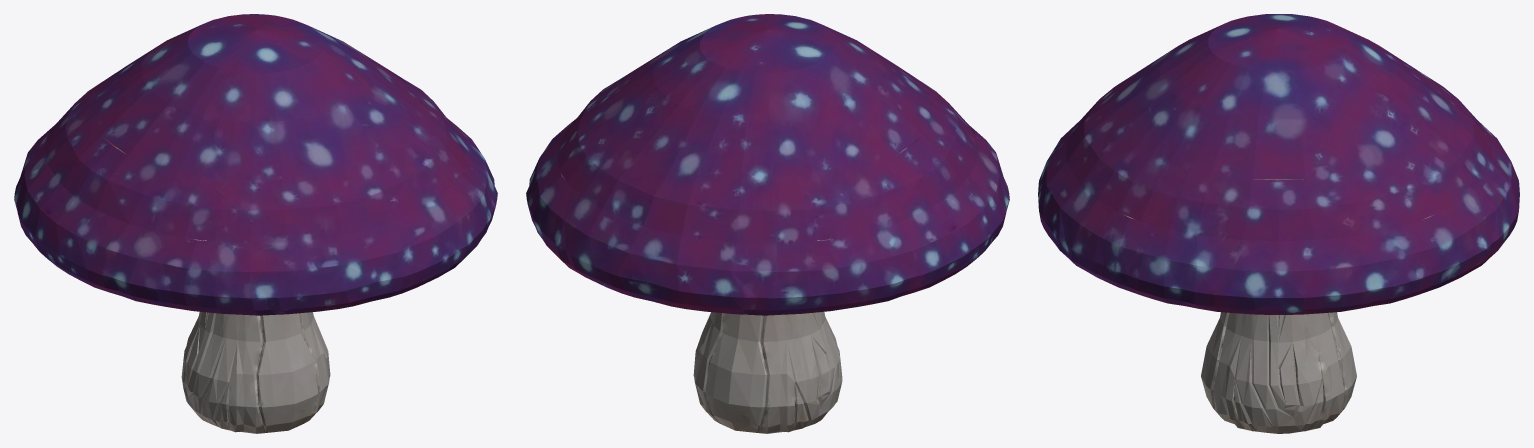
The model's file is tree_mushroom_LOD0.glb.
The picture shows the model from 3 angles, left to right: view 1: azimuth 30°, elevation 25°; view 2: azimuth 150°, elevation 25°; view 3: azimuth 270°, elevation 25°; orthographic projection.
Parts seen in each view (by area): view 1: tree_mushroom_LOD0; view 2: tree_mushroom_LOD0; view 3: tree_mushroom_LOD0.
Part boxes in pixels (x1,y1,x2,y2): tree_mushroom_LOD0: (14, 14, 497, 433); tree_mushroom_LOD0: (526, 14, 1009, 433); tree_mushroom_LOD0: (1038, 14, 1519, 433).
Bounding box in the file's own units: 1 × 0.8747 × 0.9961.
Materials: 1 (1 with a texture image).
